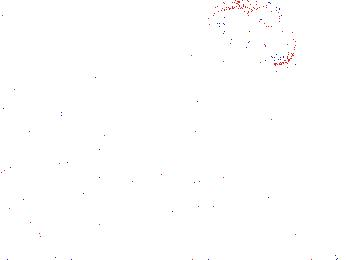moon jellyfish: (137, 19, 239, 114), (207, 1, 296, 66), (100, 1, 197, 58), (1, 57, 66, 133), (64, 12, 124, 84)
